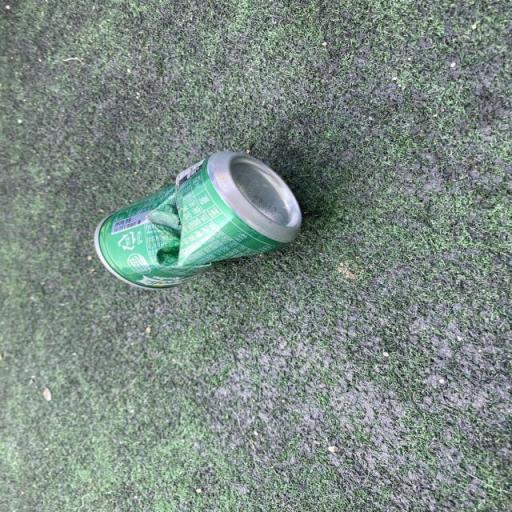metal: (64, 136, 323, 306)
